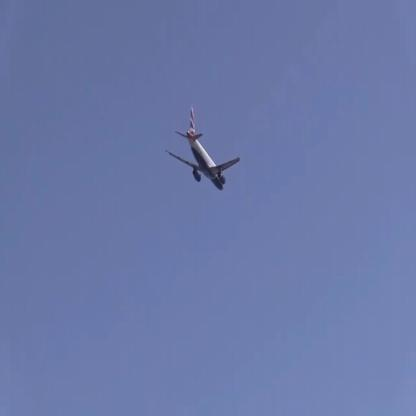CIV_Plane: (164, 103, 240, 188)
